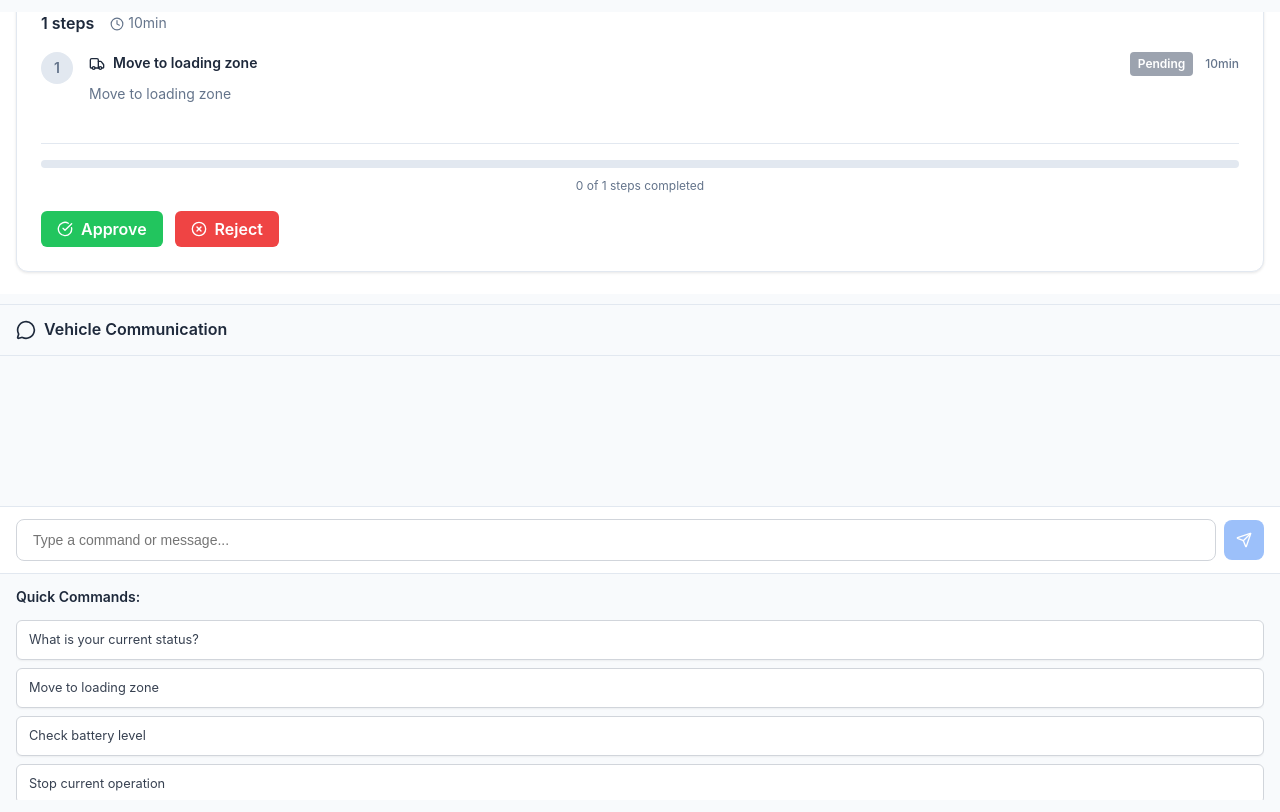
Test: VehiclePanel Component › handles quick command clicks
The width and height of the screenshot is (1280, 812).
Click the button "What is your current status?" at (114, 639), box 16,620 -> 1264,660
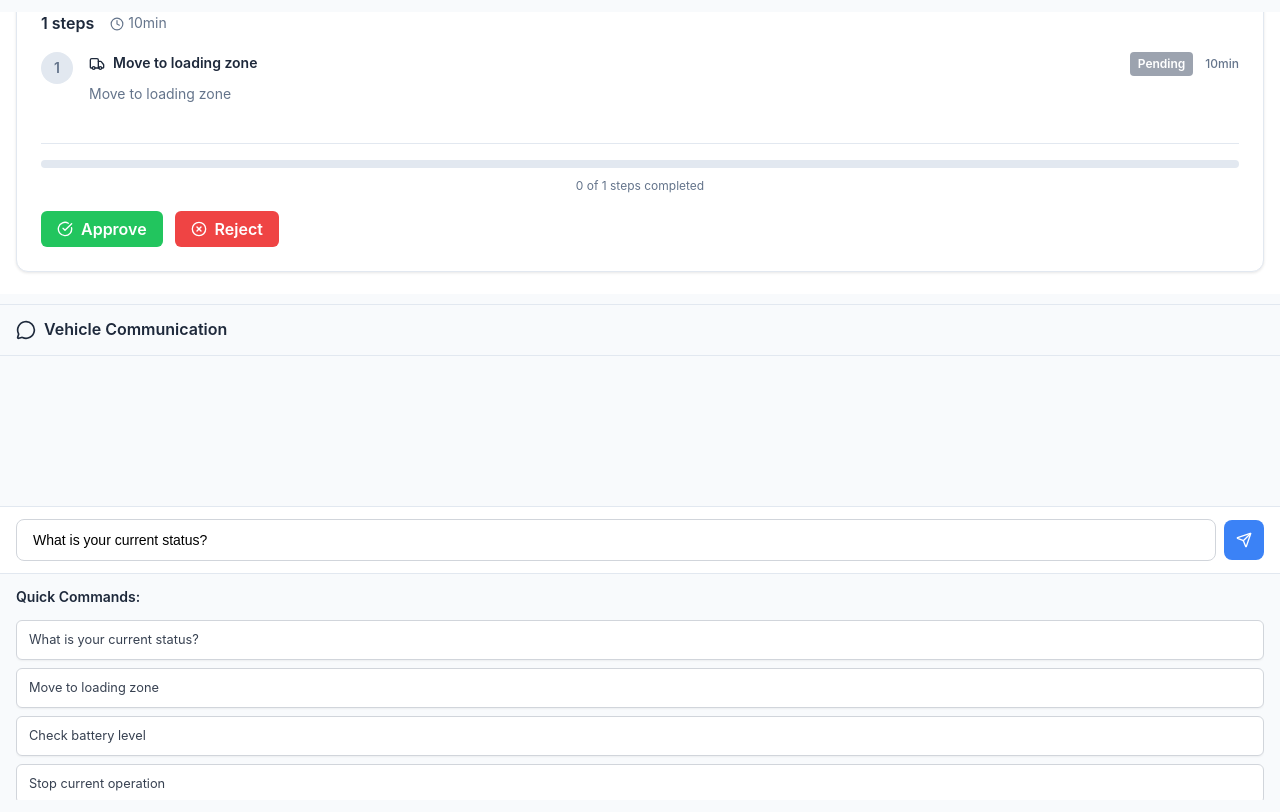
Now the field with placeholder "Type a command or message..." holds "What is your current status?", box 16,519 -> 1216,561
